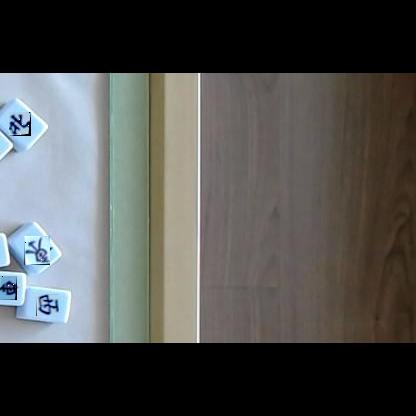1z: (24, 236, 50, 265), (0, 276, 17, 300)
3z: (36, 294, 59, 316)
4z: (9, 112, 31, 136)
